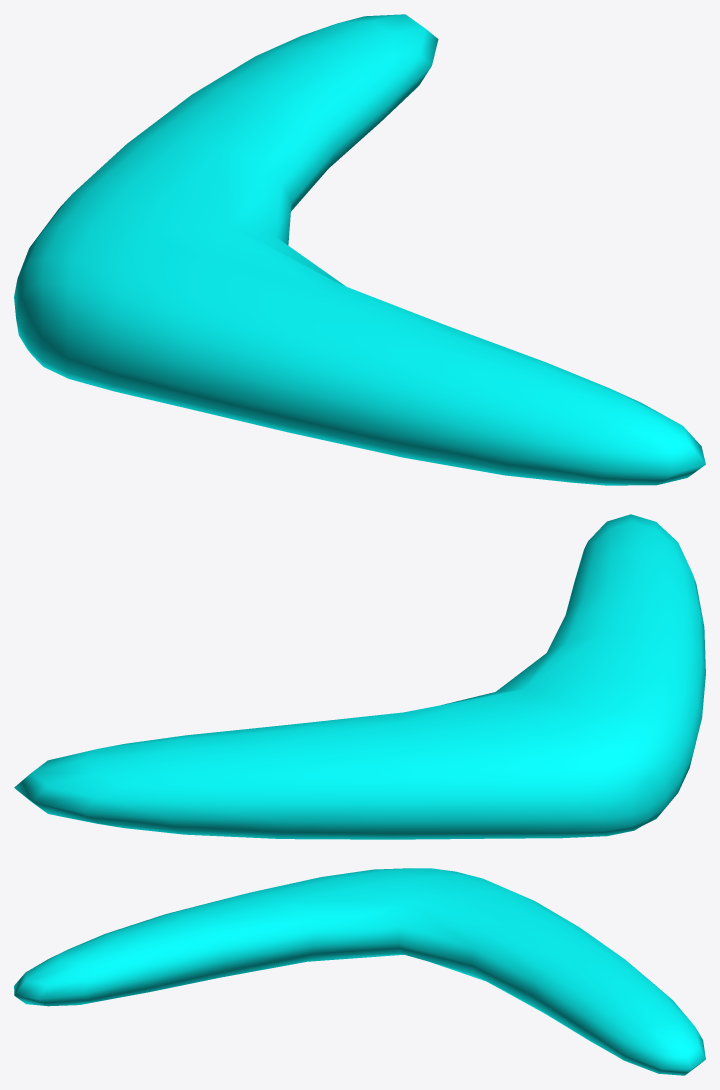
The model's file is item_boomerang.obj.
3 renders of one model, top to bottom at view 1: azimuth 30°, elevation 25°; view 2: azimuth 150°, elevation 25°; view 3: azimuth 270°, elevation 25°, orthographic. The views are drawn at different scales.
Parts seen in each view (by area): view 1: item_boomerang:node_053c038d_d9a3_4144_a21b_a95657c0656e_mesh0; view 2: item_boomerang:node_053c038d_d9a3_4144_a21b_a95657c0656e_mesh0; view 3: item_boomerang:node_053c038d_d9a3_4144_a21b_a95657c0656e_mesh0.
Part boxes in pixels (left/top/right/bottom): item_boomerang:node_053c038d_d9a3_4144_a21b_a95657c0656e_mesh0: left=14, top=14, right=705, bottom=485; item_boomerang:node_053c038d_d9a3_4144_a21b_a95657c0656e_mesh0: left=14, top=514, right=705, bottom=839; item_boomerang:node_053c038d_d9a3_4144_a21b_a95657c0656e_mesh0: left=14, top=868, right=705, bottom=1075.
Size of the model in its own units: 1.68 by 0.3117 by 2.65.
